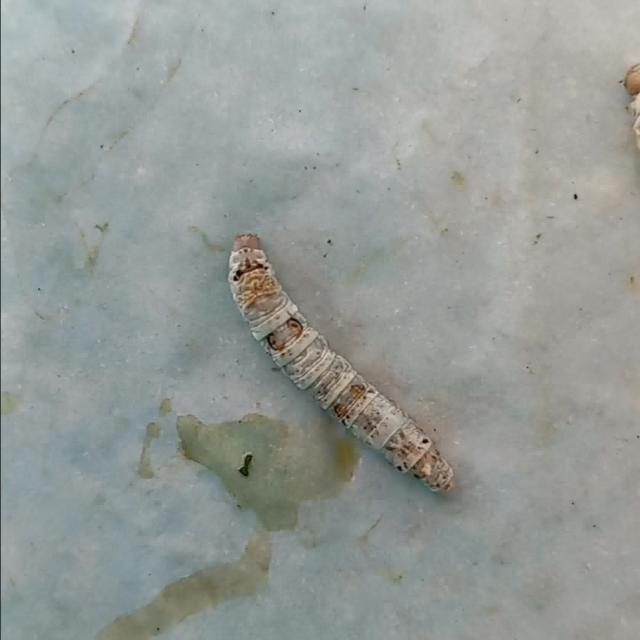Grasserie: (203, 200, 472, 510)
